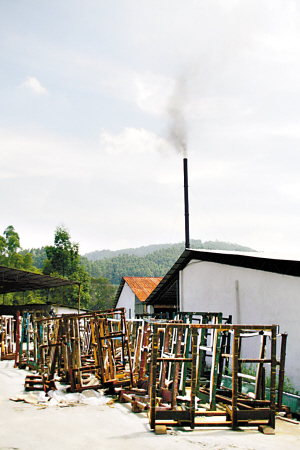dust: (154, 83, 211, 165)
